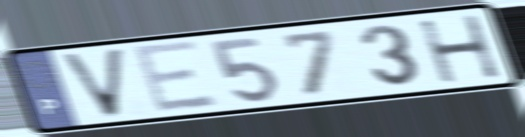3: (358, 23, 423, 89)
5: (205, 33, 284, 105)
7: (279, 26, 341, 99)
E: (128, 38, 224, 117)
H: (414, 12, 506, 86)
V: (56, 45, 128, 121)
